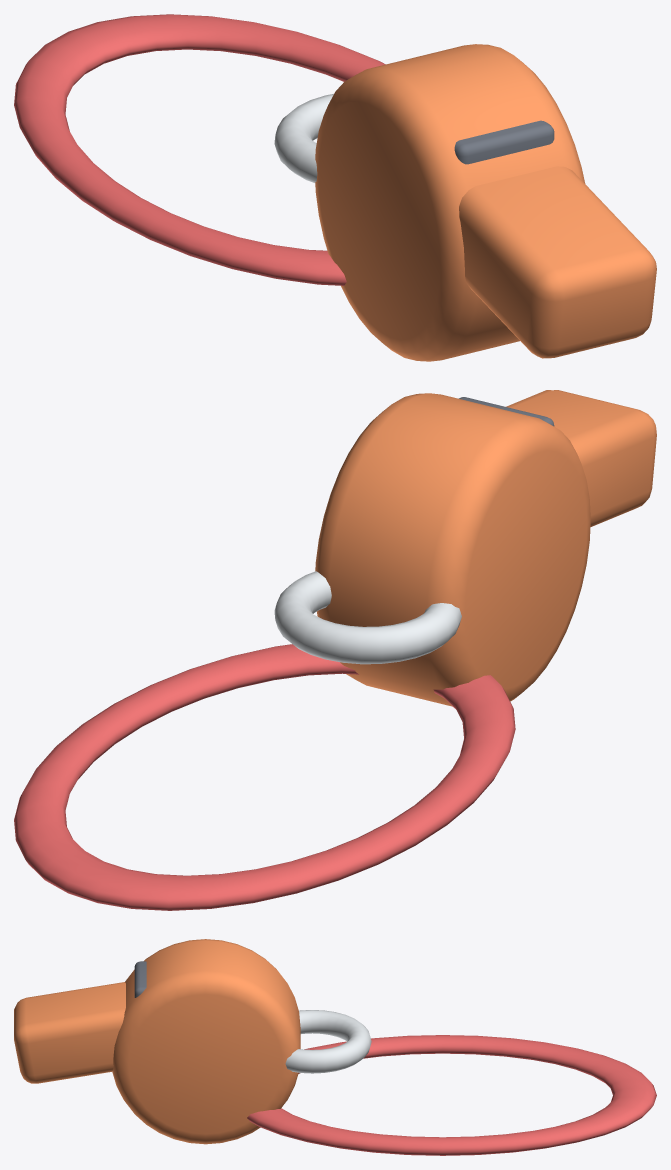
The model's file is SM_EmergencyWhistle.fbx.
3 renders of one model, top to bottom at view 1: azimuth 30°, elevation 25°; view 2: azimuth 150°, elevation 25°; view 3: azimuth 270°, elevation 25°, orthographic. The views are drawn at different scales.
Visible parts, largest first — view 1: SM_EmergencyWhistle; view 2: SM_EmergencyWhistle; view 3: SM_EmergencyWhistle.
Boxes of the visible parts, <box> form: SM_EmergencyWhistle: <box>14,14,656,361</box>; SM_EmergencyWhistle: <box>14,390,656,910</box>; SM_EmergencyWhistle: <box>14,939,656,1155</box>.
Size of the model in its own units: 16.83 by 11.84 by 40.12.
